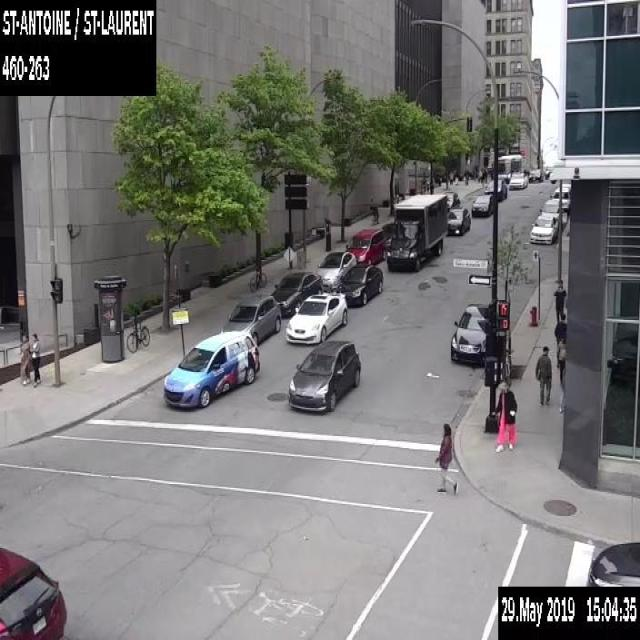bus: (497, 152, 522, 181)
pedestrian: (491, 381, 516, 451), (435, 420, 457, 497), (534, 342, 552, 407), (27, 332, 41, 386), (554, 312, 566, 368), (19, 332, 31, 385), (552, 278, 566, 322), (556, 335, 566, 384), (483, 168, 488, 182), (449, 169, 453, 184), (454, 169, 458, 184), (478, 168, 482, 182), (464, 170, 468, 184), (490, 170, 492, 180)
vehicle: (162, 329, 260, 407), (0, 542, 66, 638), (288, 340, 360, 410), (386, 193, 446, 269), (285, 292, 347, 342), (222, 293, 280, 344), (448, 301, 488, 363), (586, 540, 639, 584), (270, 270, 321, 314), (335, 264, 382, 304), (312, 250, 356, 291), (344, 228, 386, 264), (530, 212, 558, 242), (539, 197, 568, 224), (445, 205, 470, 234), (471, 193, 493, 216), (484, 178, 506, 200), (550, 187, 570, 210), (381, 222, 393, 252), (508, 172, 527, 190), (443, 190, 460, 210), (528, 168, 542, 181), (561, 181, 571, 192)
